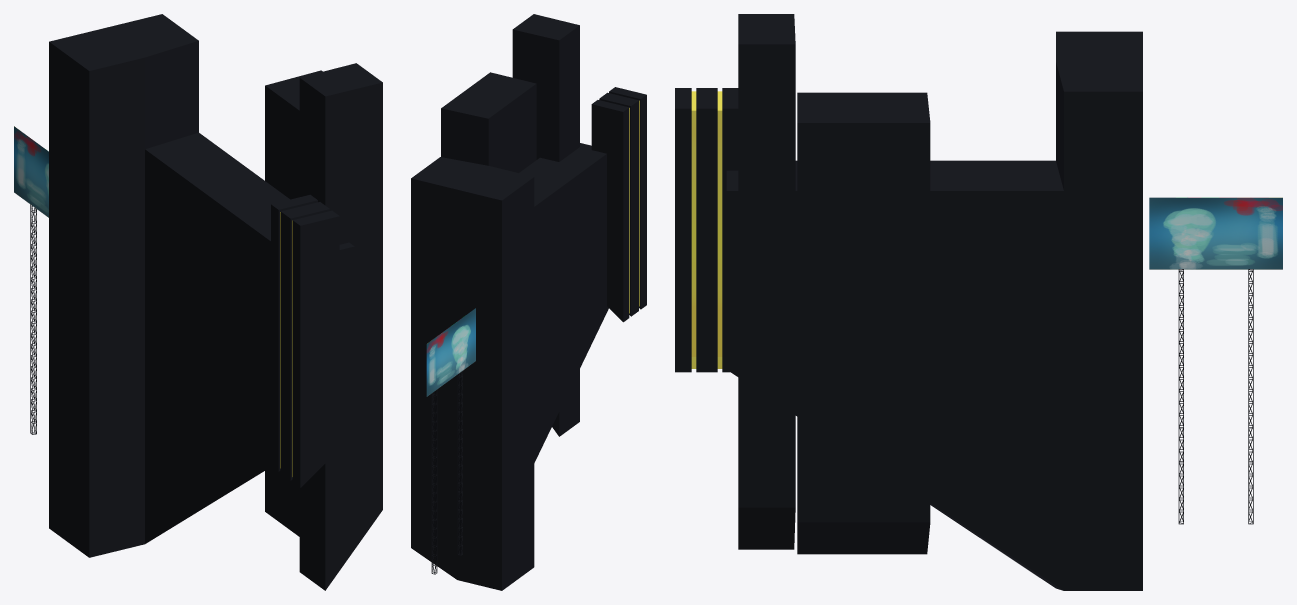
File: test_decor_3.fbx
3 views of the same model, side by side, from view 1: azimuth 30°, elevation 25°; view 2: azimuth 150°, elevation 25°; view 3: azimuth 270°, elevation 25° (orthographic). The views are drawn at different scales.
Parts seen in each view (by area): view 1: Cube.049, Plane.005, Cube.029; view 2: Cube.049, Plane.005, Cube.029; view 3: Cube.049, Plane.005, Cube.029.
Part boxes in pixels (x1=…): Cube.049: x1=49, y1=14, x2=382, y2=590; Plane.005: x1=14, y1=126, x2=48, y2=217; Cube.029: x1=30, y1=204, x2=36, y2=434; Cube.049: x1=411, y1=14, x2=646, y2=590; Plane.005: x1=426, y1=308, x2=475, y2=396; Cube.029: x1=431, y1=371, x2=462, y2=574; Cube.049: x1=675, y1=14, x2=1142, y2=590; Plane.005: x1=1149, y1=197, x2=1282, y2=269; Cube.029: x1=1178, y1=269, x2=1253, y2=524.
Size of the model in its own units: 2486 by 7462 by 6938.
